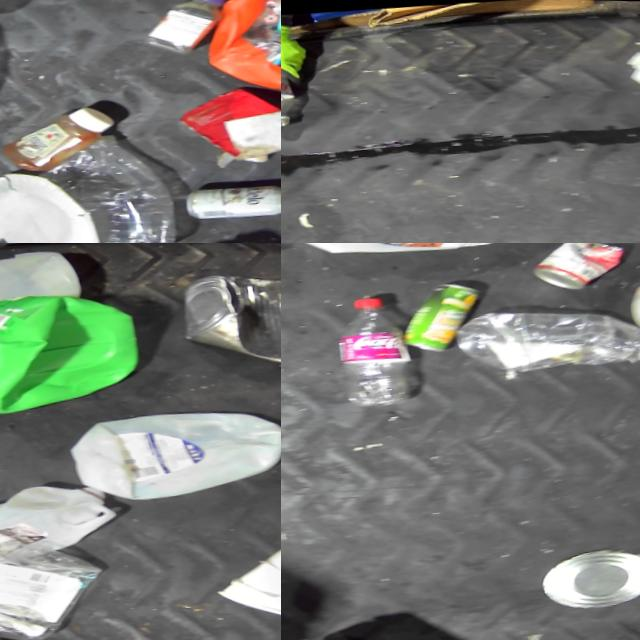can: (164, 267, 281, 373), (395, 277, 480, 354), (175, 176, 281, 224), (526, 243, 618, 289)
milk_jug: (65, 398, 281, 506), (0, 479, 105, 587), (0, 243, 76, 342)
non_white_jug: (0, 285, 143, 423), (187, 0, 281, 98)
plastic_bottle: (447, 300, 640, 377), (44, 132, 172, 243), (321, 292, 415, 404), (0, 540, 97, 640), (281, 53, 312, 132)
